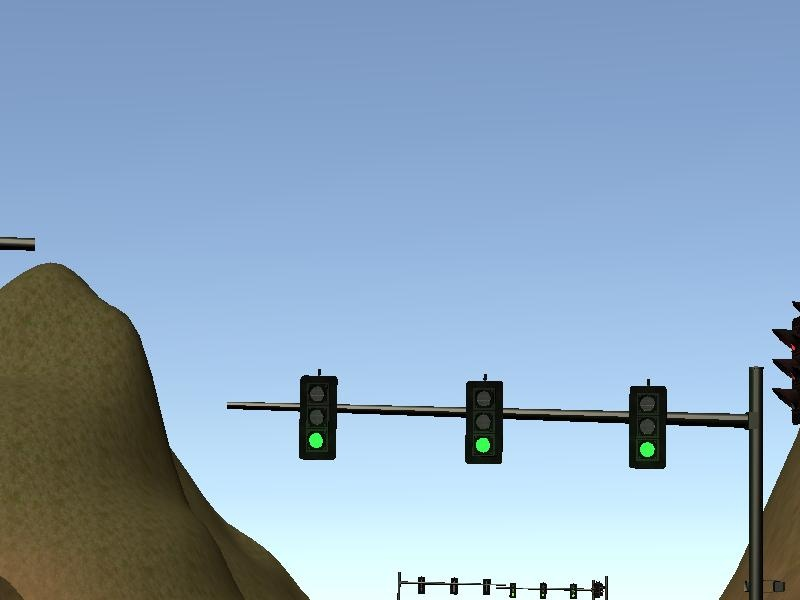GREEN: (625, 382, 671, 472), (297, 376, 337, 462), (464, 380, 503, 466)
